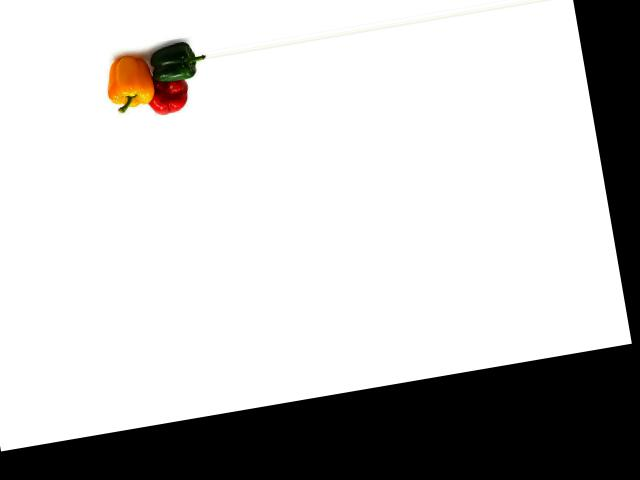bell_pepper: (138, 39, 205, 91)
